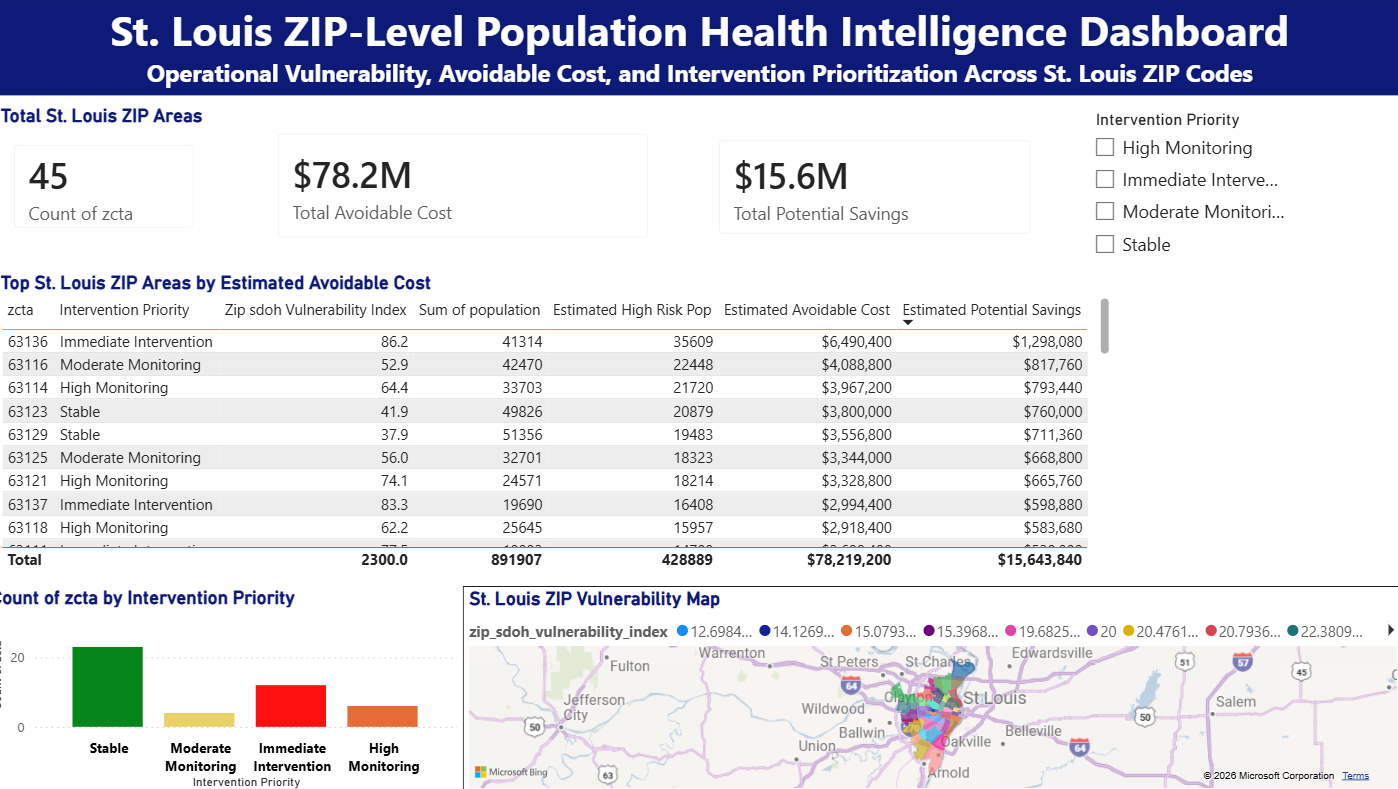

This screenshot's page, from the dashboard's own definition file:
{"tool":"powerbi","page":{"name":"St. Louis ZIP Analysis","canvas":[1280,720],"ordinal":1},"visuals":[{"type":"textbox","box":[9.8,0,1270.5,89.3],"z":0},{"type":"cardVisual","title":"Total St. Louis ZIP Areas","fields":{"Data":["Count(ZIP_Data.zcta)"]},"box":[9.8,97.8,196.9,128.4],"z":1000},{"type":"cardVisual","fields":{"Data":["Sum(ZIP_Data.estimated_avoidable_cost)"]},"box":[248.2,107.6,368.1,128.4],"z":2000},{"type":"cardVisual","fields":{"Data":["Sum(ZIP_Data.estimated_potential_savings)"]},"box":[645.7,112.5,315.5,119.8],"z":3000},{"type":"slicer","fields":{"Values":["ZIP_Data.Intervention_Priority"]},"box":[989.3,97.8,190.8,150.4],"z":4000},{"type":"tableEx","title":"Top St. Louis ZIP Areas by Estimated Avoidable Cost","fields":{"Values":["ZIP_Data.zcta","ZIP_Data.Intervention_Priority","Sum(ZIP_Data.zip_sdoh_vulnerability_index)","Sum(ZIP_Data.population)","Sum(ZIP_Data.estimated_high_risk_population)","Sum(ZIP_Data.estimated_avoidable_cost)","Sum(ZIP_Data.estimated_potential_savings)"]},"box":[9.6,248.4,1010,274.4],"z":5000},{"type":"clusteredColumnChart","fields":{"Category":["ZIP_Data.Intervention_Priority"],"Y":["CountNonNull(ZIP_Data.zcta)"]},"box":[1.4,532.4,430.9,188],"z":6000},{"type":"filledMap","title":"St. Louis ZIP Vulnerability Map","fields":{"Category":["ZIP_Data.ZIP_State"],"Series":["ZIP_Data.zip_sdoh_vulnerability_index"]},"box":[431.7,531.9,848.6,188.3],"z":7000}]}

Visuals, with their boxes in screenshot pixels (x1, y1, x2, y2), scaled from the page's 1280x720 canvas onto the 1398x789 screenshot:
textbox: box(11, 0, 1397, 98)
"Total St. Louis ZIP Areas" cardVisual: box(11, 107, 226, 248)
cardVisual - Sum(ZIP_Data.estimated_avoidable_cost): box(271, 118, 673, 259)
cardVisual - Sum(ZIP_Data.estimated_potential_savings): box(705, 123, 1050, 255)
slicer - ZIP_Data.Intervention_Priority: box(1081, 107, 1289, 272)
"Top St. Louis ZIP Areas by Estimated Avoidable Cost" tableEx: box(10, 272, 1114, 573)
clusteredColumnChart - ZIP_Data.Intervention_Priority x CountNonNull(ZIP_Data.zcta): box(2, 583, 472, 788)
"St. Louis ZIP Vulnerability Map" filledMap: box(471, 583, 1397, 788)
